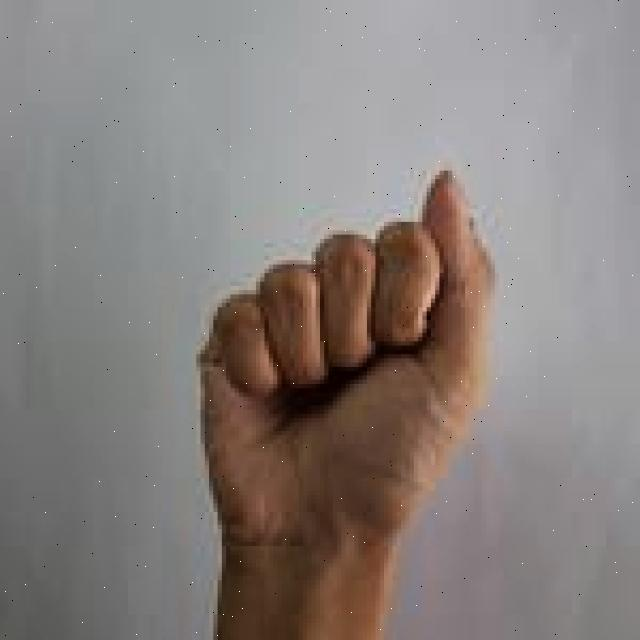A: (192, 152, 518, 640)
